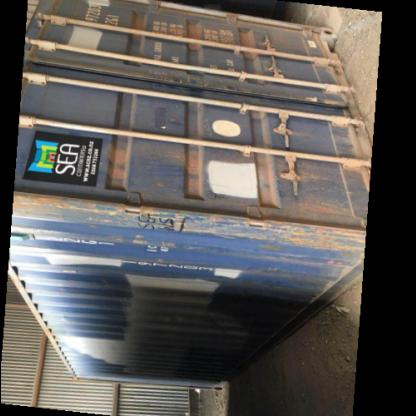Damage: (244, 194, 367, 256), (121, 203, 206, 245), (235, 267, 341, 293), (100, 127, 129, 190), (177, 144, 211, 196), (10, 188, 73, 212), (172, 25, 208, 52), (58, 289, 72, 345)
